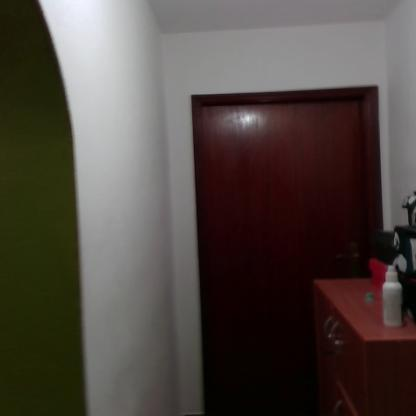door: (202, 106, 374, 416)
lever: (333, 253, 364, 264)
